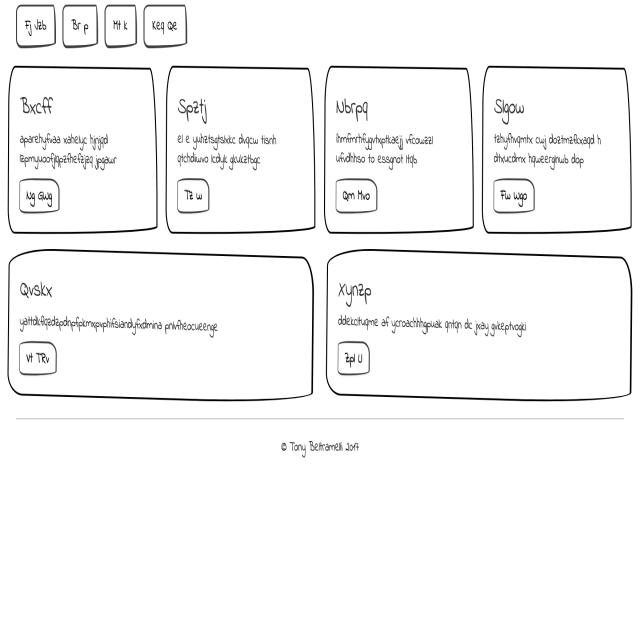Button: (17, 174, 62, 218), (16, 337, 59, 380), (492, 172, 536, 214), (332, 176, 380, 214), (336, 339, 372, 377), (177, 181, 208, 212)
Card: (326, 247, 630, 403), (6, 252, 314, 402), (482, 62, 633, 236), (323, 65, 475, 235), (164, 63, 314, 235), (8, 62, 156, 234)
Footer: (0, 417, 640, 640)
Heading 6: (333, 270, 374, 309), (333, 96, 375, 127), (16, 270, 54, 304), (492, 93, 528, 128), (17, 91, 57, 120), (174, 94, 208, 123)
Navigation Bar: (14, 6, 191, 46)
Paragraph: (337, 308, 527, 338), (17, 313, 219, 339), (489, 127, 603, 173), (18, 128, 117, 174), (332, 128, 436, 170), (174, 133, 279, 173)
